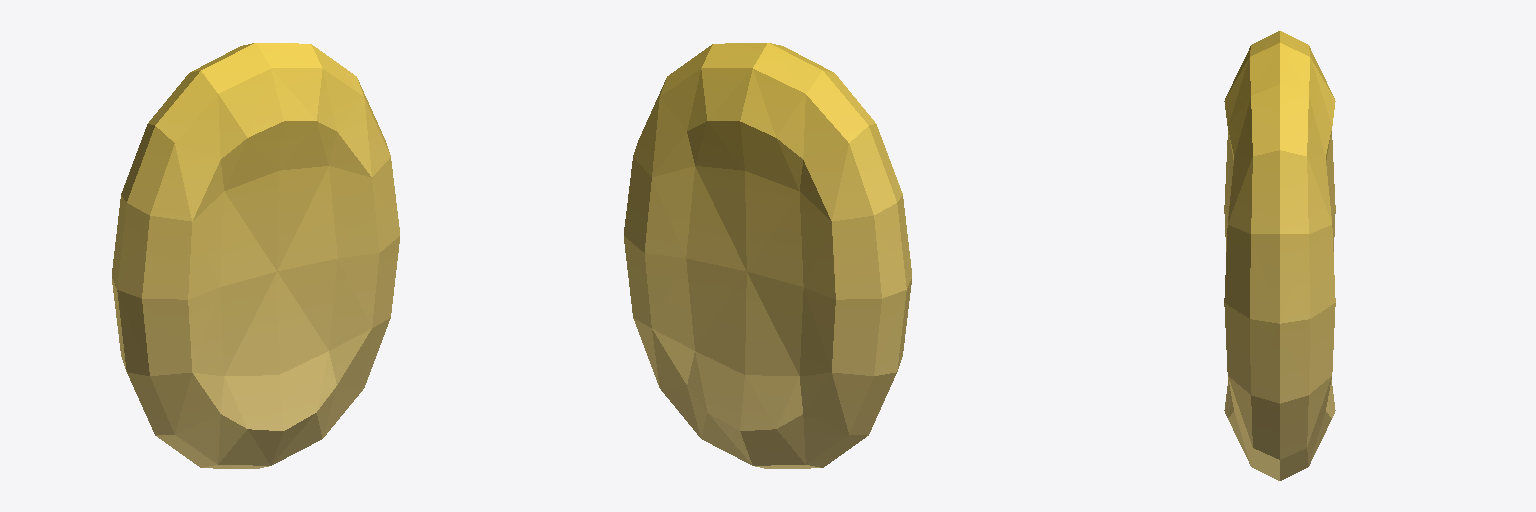
3 views of the same model, side by side, from view 1: azimuth 30°, elevation 25°; view 2: azimuth 150°, elevation 25°; view 3: azimuth 270°, elevation 25° (orthographic).
Parts seen in each view (by area): view 1: coin; view 2: coin; view 3: coin.
Part boxes in pixels (x1,y1,x2,y2): coin: (112,43,399,468); coin: (624,43,911,468); coin: (1224,31,1335,480).
Size of the model in its own units: 0.5713 by 0.8395 by 0.1985.
Materials: 1 (1 with a texture image).